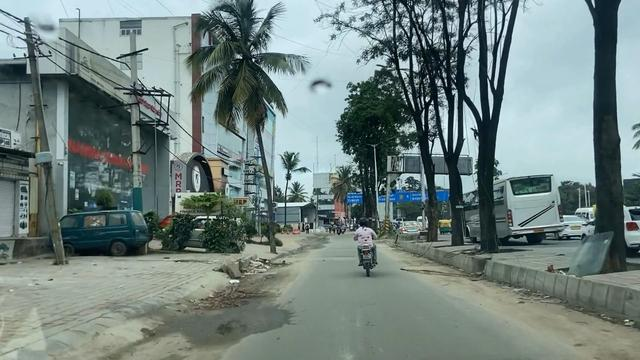LMV: (354, 217, 378, 275)
RoadDamages: (170, 280, 297, 354), (388, 267, 453, 285)
